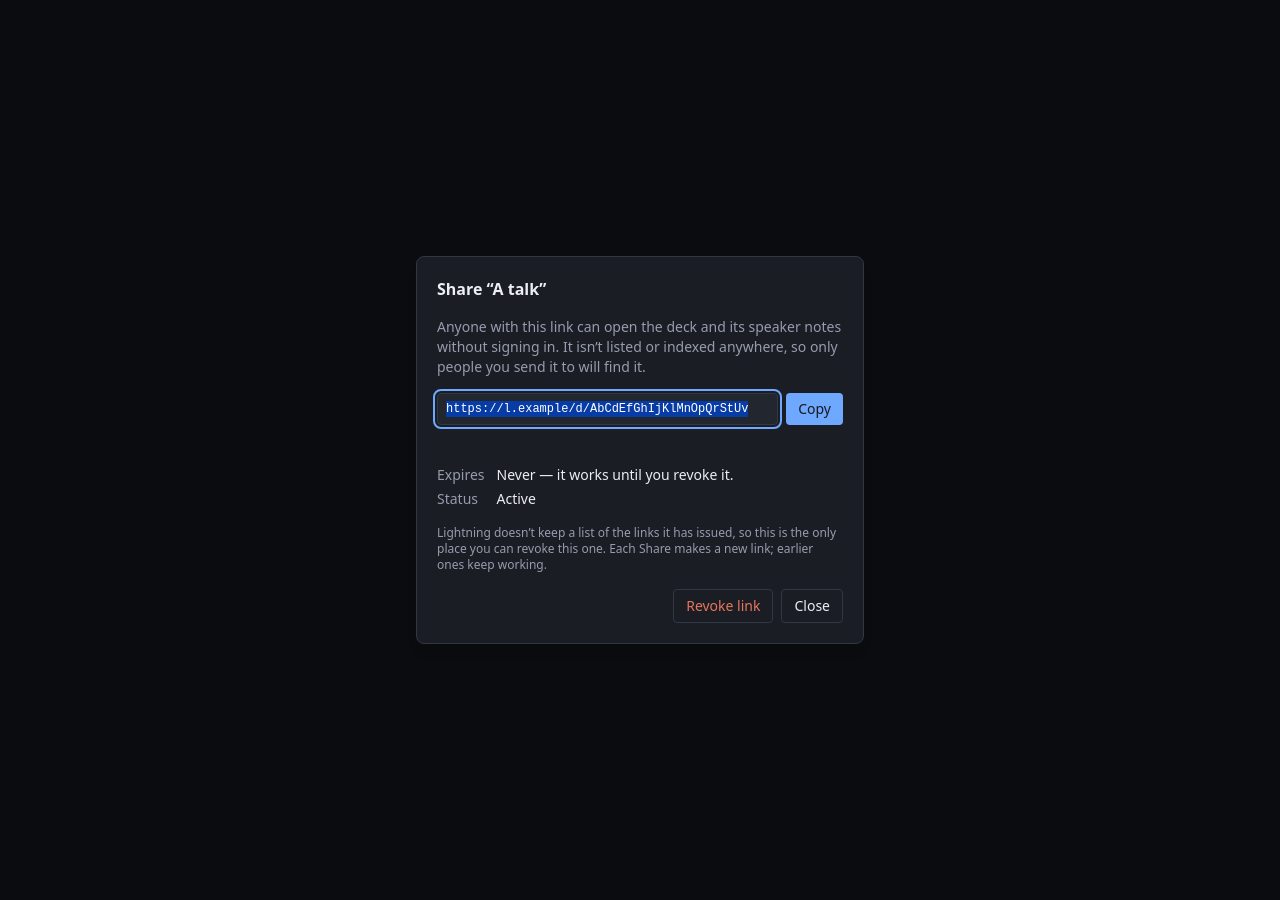
ShareDialog › revokes this token on this talk, then shows it as dead
Click the button "Revoke link" at (723, 606), box top-left (673, 589), bottom-right (774, 623)
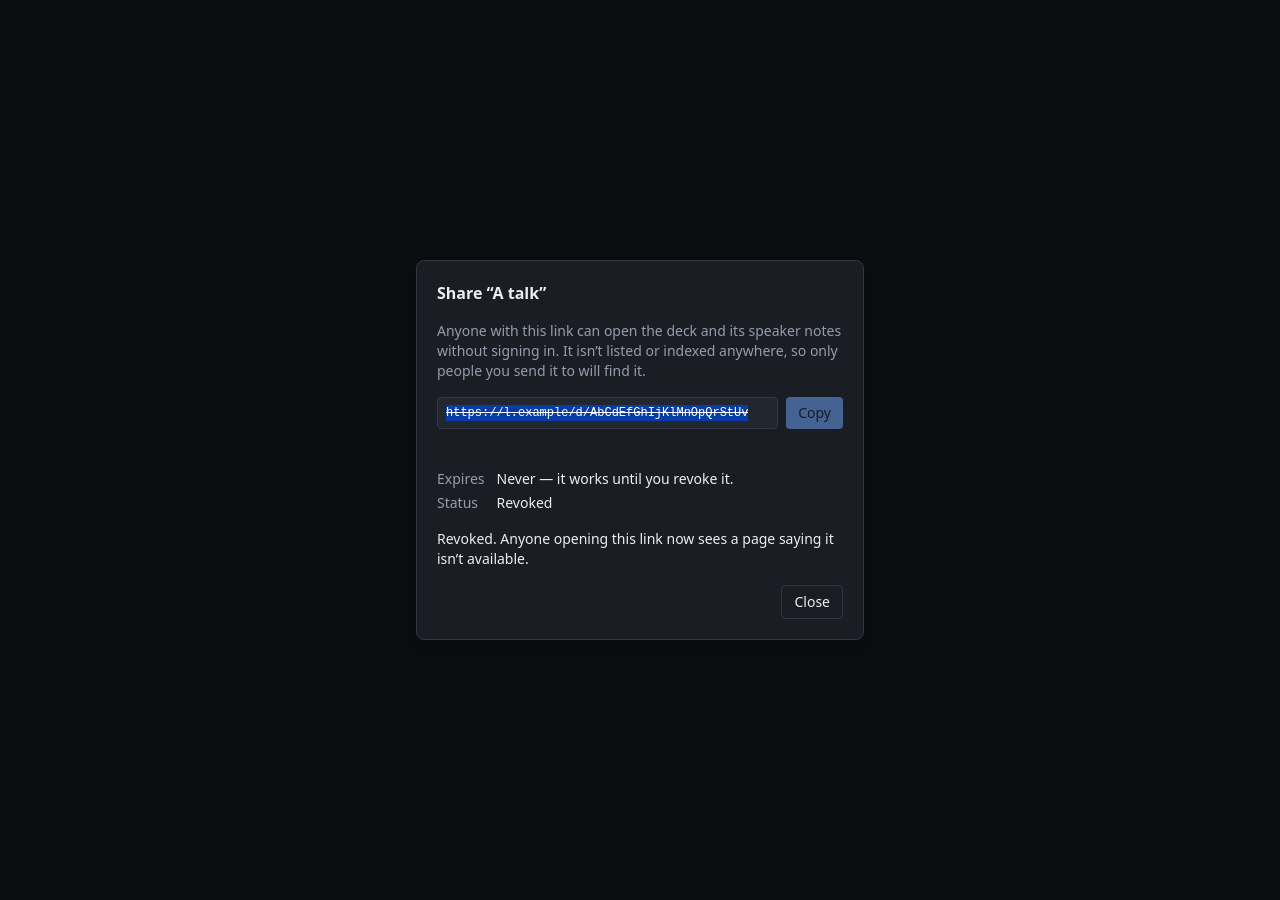
Expected: the message shows "Revoked", top-left (437, 529), bottom-right (834, 568)
Expected: the text "Revoked" is shown, top-left (496, 493), bottom-right (552, 512)
Expected: the button "Revoke link" is gone
